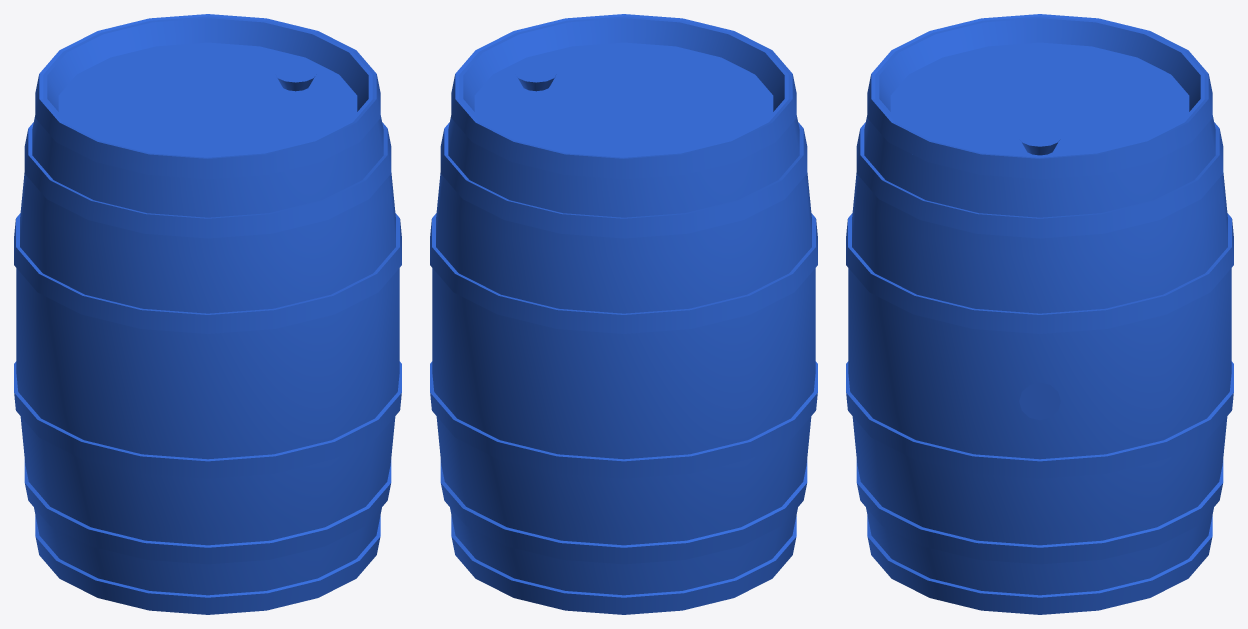
The model's file is Tonneau_001.FBX.
3 views of the same model, side by side, from view 1: azimuth 30°, elevation 25°; view 2: azimuth 150°, elevation 25°; view 3: azimuth 270°, elevation 25° (orthographic).
Parts seen in each view (by area): view 1: Tonneau_002; view 2: Tonneau_002; view 3: Tonneau_002.
Part boxes in pixels (left/top/right/bottom): Tonneau_002: left=14, top=14, right=401, bottom=614; Tonneau_002: left=430, top=14, right=817, bottom=614; Tonneau_002: left=846, top=14, right=1233, bottom=614.
Size of the model in its own units: 96.26 by 120 by 92.73.
